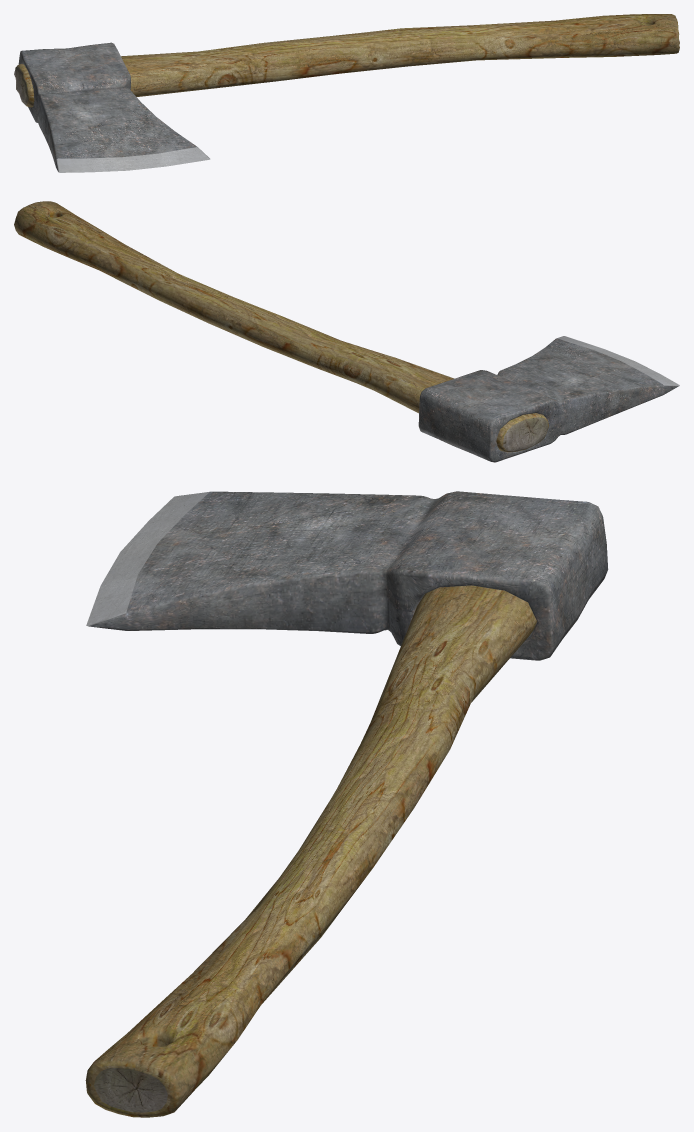
The picture shows the model from 3 angles, top to bottom: view 1: azimuth 30°, elevation 25°; view 2: azimuth 150°, elevation 25°; view 3: azimuth 270°, elevation 25°; orthographic projection. The views are drawn at different scales.
Visible parts, largest first — view 1: axe_fbx.001; view 2: axe_fbx.001; view 3: axe_fbx.001.
Boxes of the visible parts, <box> form: axe_fbx.001: <box>14,14,679,172</box>; axe_fbx.001: <box>14,201,679,462</box>; axe_fbx.001: <box>85,491,608,1117</box>.
Size of the model in its own units: 388 by 27.43 by 143.
